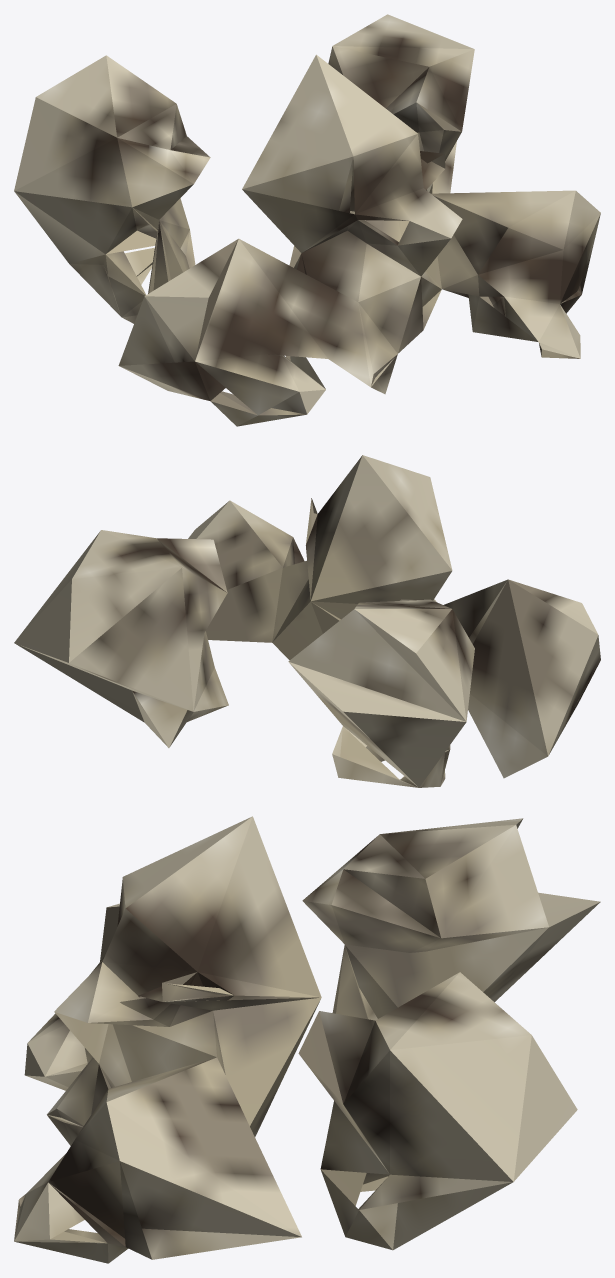
Rendered from SM_MeshySkullPile.fbx.
3 views of the same model, one above another, from view 1: azimuth 30°, elevation 25°; view 2: azimuth 150°, elevation 25°; view 3: azimuth 270°, elevation 25° (orthographic). The views are drawn at different scales.
Parts seen in each view (by area): view 1: SM_MeshySkullPile; view 2: SM_MeshySkullPile; view 3: SM_MeshySkullPile.
Part boxes in pixels (box(x1,y1,x2,y2)): SM_MeshySkullPile: box(14, 14, 600, 426); SM_MeshySkullPile: box(14, 455, 600, 787); SM_MeshySkullPile: box(14, 816, 600, 1263).
Size of the model in its own units: 0.6064 by 0.3756 by 0.5512.
Materials: 1 (1 with a texture image).
